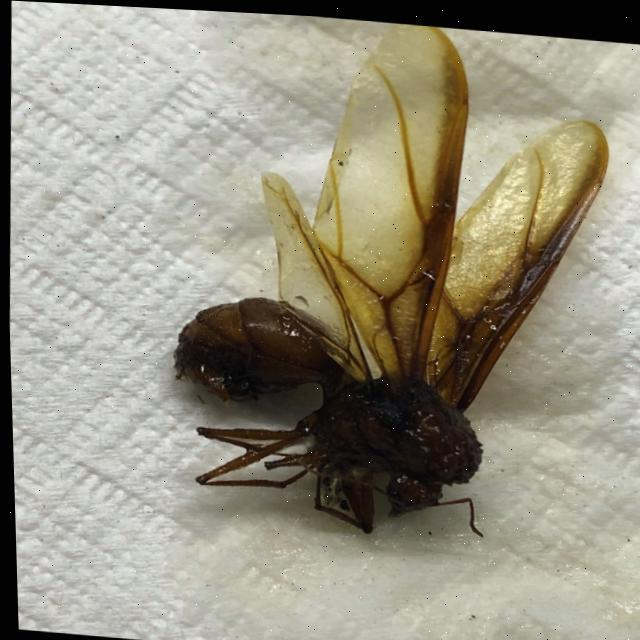Dead-Male-Alate: (156, 6, 620, 549)
